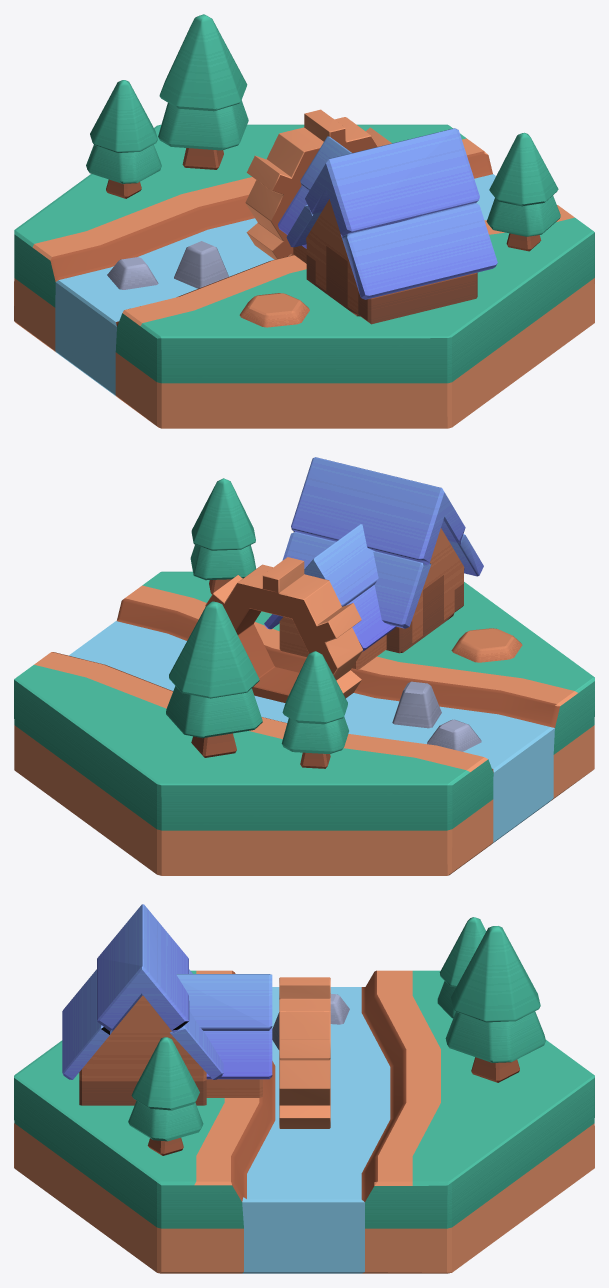
The model's file is kenney-hexagon__building-watermill.glb.
3 views of the same model, one above another, from view 1: azimuth 30°, elevation 25°; view 2: azimuth 150°, elevation 25°; view 3: azimuth 270°, elevation 25° (orthographic).
Parts seen in each view (by area): view 1: building-watermill, rotate-z; view 2: building-watermill, rotate-z; view 3: building-watermill, rotate-z.
Part boxes in pixels (left/top/right/bottom): building-watermill: left=14, top=14, right=594, bottom=428; rotate-z: left=245, top=109, right=391, bottom=259; building-watermill: left=14, top=457, right=594, bottom=875; rotate-z: left=205, top=557, right=362, bottom=702; building-watermill: left=14, top=904, right=594, bottom=1273; rotate-z: left=279, top=977, right=330, bottom=1128.
Size of the model in its own units: 1 by 0.5192 by 1.15.
1 material, 1 textured.
